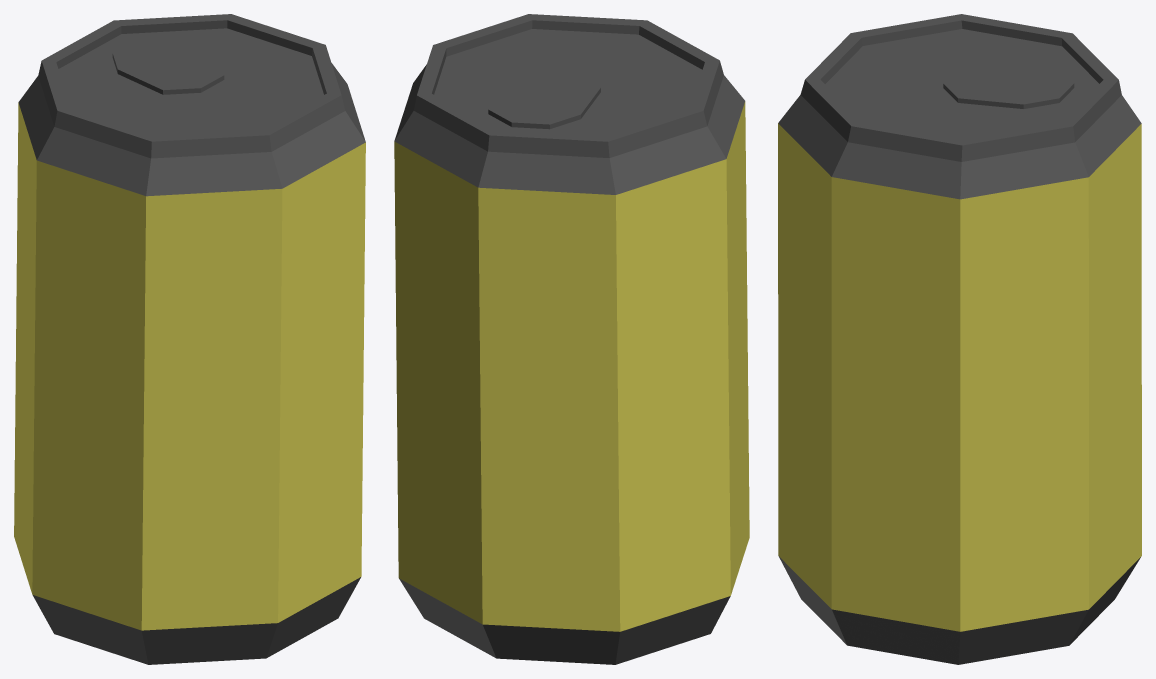
The model's file is Dåse_Gul.fbx.
The picture shows the model from 3 angles, left to right: view 1: azimuth 30°, elevation 25°; view 2: azimuth 150°, elevation 25°; view 3: azimuth 270°, elevation 25°; orthographic projection.
Parts seen in each view (by area): view 1: Dåse; view 2: Dåse; view 3: Dåse.
Boxes of the visible parts, <box> form: Dåse: <box>14,14,365,664</box>; Dåse: <box>394,14,749,664</box>; Dåse: <box>778,14,1141,664</box>.
Size of the model in its own units: 13.61 by 21.46 by 13.55.
